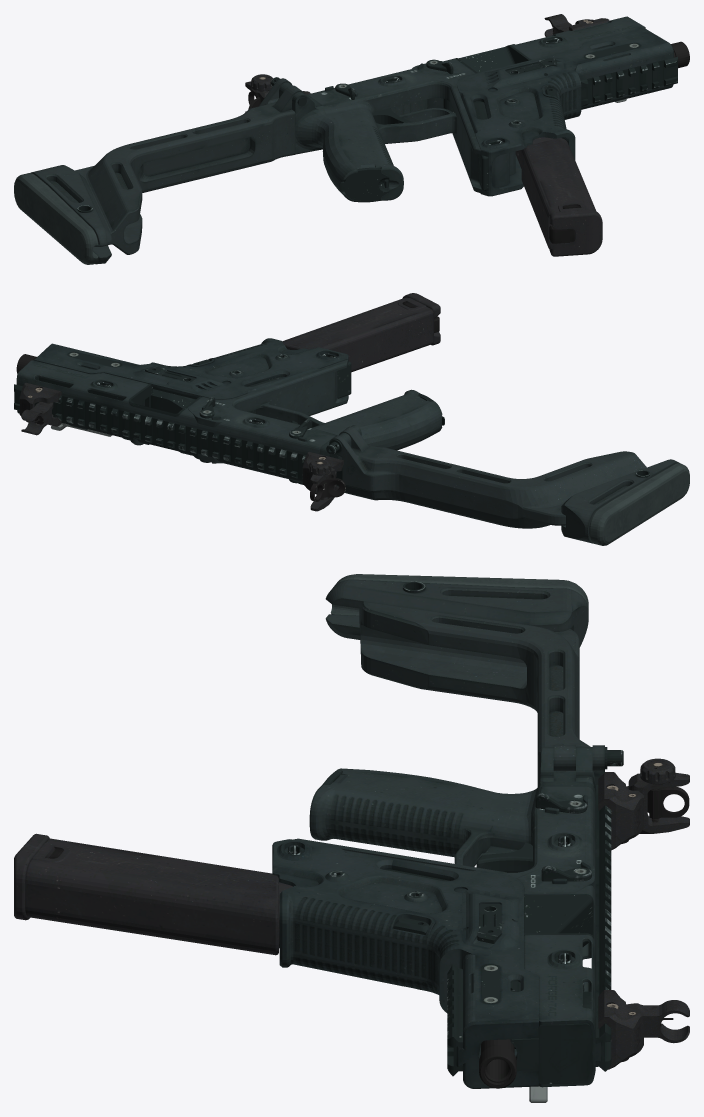
File: fireteam_teal_weapon.glb
The picture shows the model from 3 angles, top to bottom: view 1: azimuth 30°, elevation 25°; view 2: azimuth 150°, elevation 25°; view 3: azimuth 270°, elevation 25°; orthographic projection. The views are drawn at different scales.
Parts seen in each view (by area): view 1: attachment_vm_sm_victor_receiver_weapon_vm_sm_victor_body_0, attachment_vm_sm_victor_stock_weapon_vm_sm_victor_stock_0, attachment_vm_sm_victor_mag.001_weapon_vm_sm_victor_mag_0, attachment_vm_sm_victor_tag_sight_on_weapon_vm_sm_victor_sig; view 2: attachment_vm_sm_victor_receiver_weapon_vm_sm_victor_body_0, attachment_vm_sm_victor_stock_weapon_vm_sm_victor_stock_0, attachment_vm_sm_victor_mag.001_weapon_vm_sm_victor_mag_0, attachment_vm_sm_victor_tag_sight_on_weapon_vm_sm_victor_sig; view 3: attachment_vm_sm_victor_receiver_weapon_vm_sm_victor_body_0, attachment_vm_sm_victor_stock_weapon_vm_sm_victor_stock_0, attachment_vm_sm_victor_mag.001_weapon_vm_sm_victor_mag_0, attachment_vm_sm_victor_tag_sight_on_weapon_vm_sm_victor_sig, attachment_vm_sm_victor_barrel_tip_weapon_vm_sm_victor_body_, attachment_vm_sm_victor_barrel_weapon_vm_sm_victor_body_0.
Boxes of the visible parts, x1,y1,x2,y2 form: attachment_vm_sm_victor_receiver_weapon_vm_sm_victor_body_0: (279,16,677,202); attachment_vm_sm_victor_stock_weapon_vm_sm_victor_stock_0: (14,77,306,264); attachment_vm_sm_victor_mag.001_weapon_vm_sm_victor_mag_0: (515,137,602,256); attachment_vm_sm_victor_tag_sight_on_weapon_vm_sm_victor_sig: (245,14,609,112); attachment_vm_sm_victor_receiver_weapon_vm_sm_victor_body_0: (14,338,444,492); attachment_vm_sm_victor_stock_weapon_vm_sm_victor_stock_0: (326,426,689,545); attachment_vm_sm_victor_mag.001_weapon_vm_sm_victor_mag_0: (282,293,440,372); attachment_vm_sm_victor_tag_sight_on_weapon_vm_sm_victor_sig: (19,382,345,511); attachment_vm_sm_victor_receiver_weapon_vm_sm_victor_body_0: (272,747,611,1102); attachment_vm_sm_victor_stock_weapon_vm_sm_victor_stock_0: (325,574,623,786); attachment_vm_sm_victor_mag.001_weapon_vm_sm_victor_mag_0: (14,833,292,955); attachment_vm_sm_victor_tag_sight_on_weapon_vm_sm_victor_sig: (598,758,689,1069); attachment_vm_sm_victor_barrel_tip_weapon_vm_sm_victor_body_: (479,1045,516,1088); attachment_vm_sm_victor_barrel_weapon_vm_sm_victor_body_0: (481,1039,514,1082).
Bounding box in the file's own units: 0.75 × 0.0907 × 0.4505.
6 materials, 6 textured.
